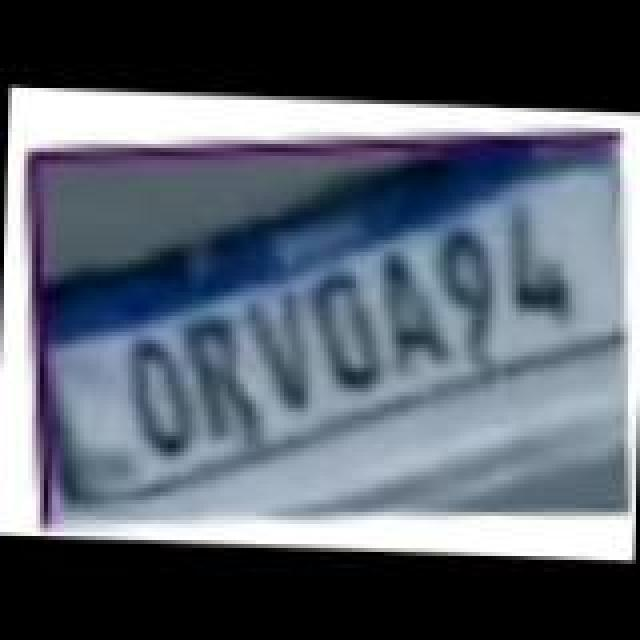4: (502, 212, 574, 324)
9: (436, 226, 504, 350)
A: (372, 248, 452, 372)
D: (306, 270, 390, 390)
O: (124, 336, 200, 460)
R: (180, 316, 264, 448)
V: (240, 290, 316, 414)
